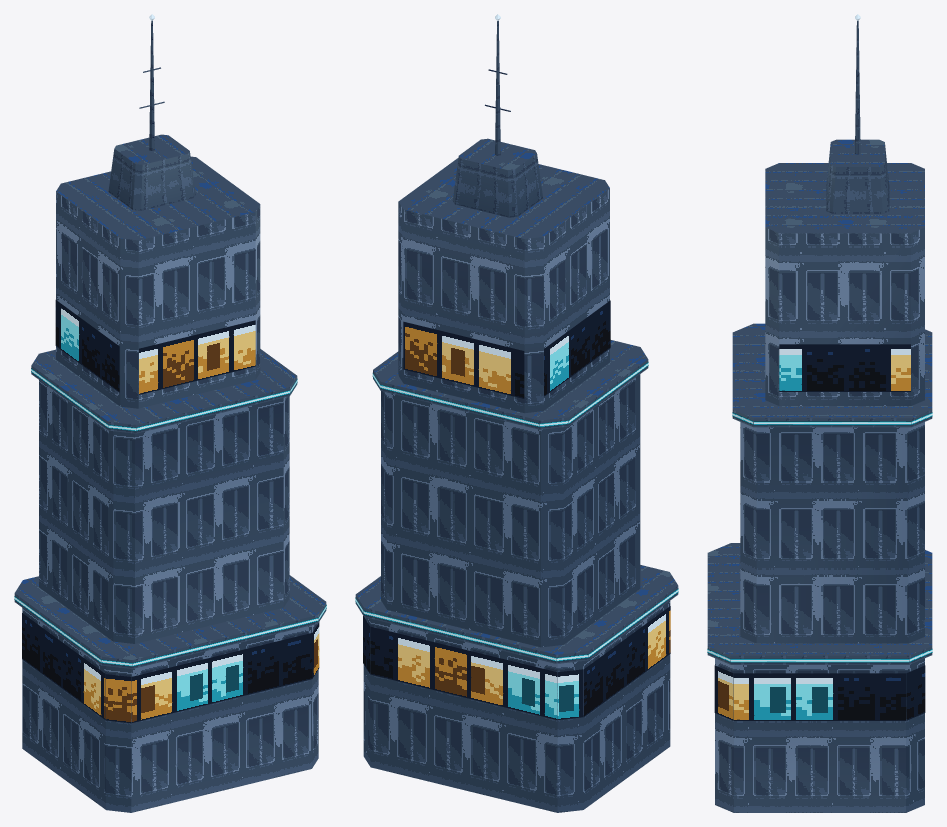
Rendered from cytower.setback.glb.
3 views of the same model, side by side, from view 1: azimuth 30°, elevation 25°; view 2: azimuth 150°, elevation 25°; view 3: azimuth 270°, elevation 25° (orthographic). The views are drawn at different scales.
Parts seen in each view (by area): view 1: kit_tower, kit_card_windows, kit_crown; view 2: kit_tower, kit_card_windows, kit_crown; view 3: kit_tower, kit_card_windows, kit_crown.
Part boxes in pixels (x1,y1,x2,y2): kit_tower: (14,134,326,812); kit_card_windows: (14,300,326,723); kit_crown: (139,14,164,150); kit_tower: (355,138,678,812); kit_card_windows: (355,300,678,719); kit_crown: (485,14,510,155); kit_tower: (707,139,932,812); kit_card_windows: (707,344,932,720); kit_crown: (855,14,860,154).
Bounding box in the file's own units: 12.75 × 39.17 × 10.75.
7 materials, 7 textured.
